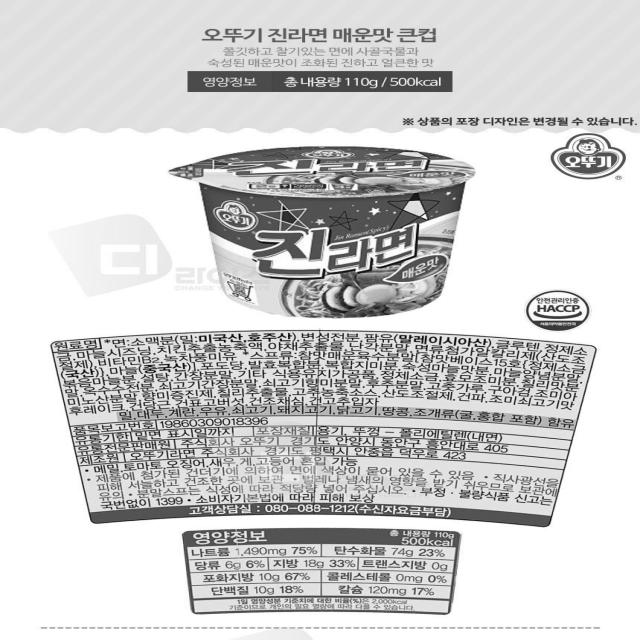Nutrition Label: (173, 524, 472, 621)
